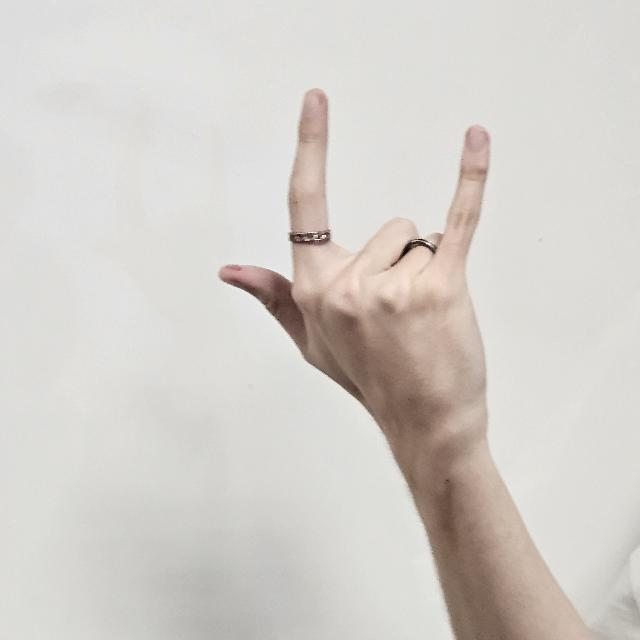Cima: (220, 88, 490, 446)
